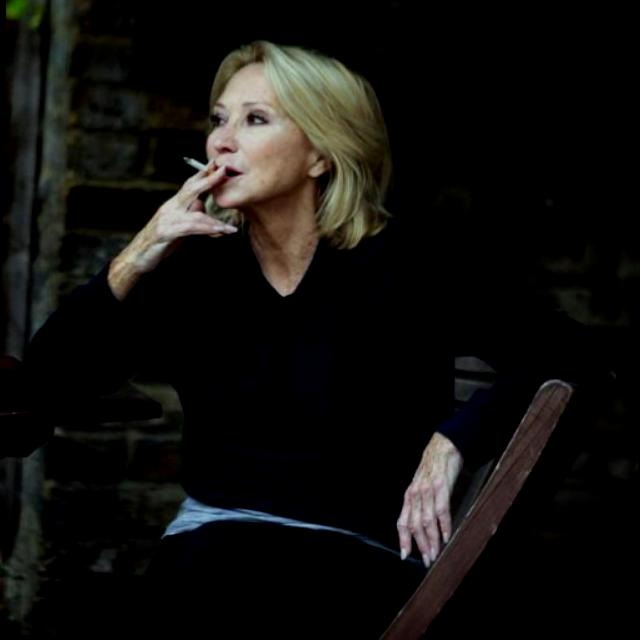cigarette: (169, 140, 237, 182)
